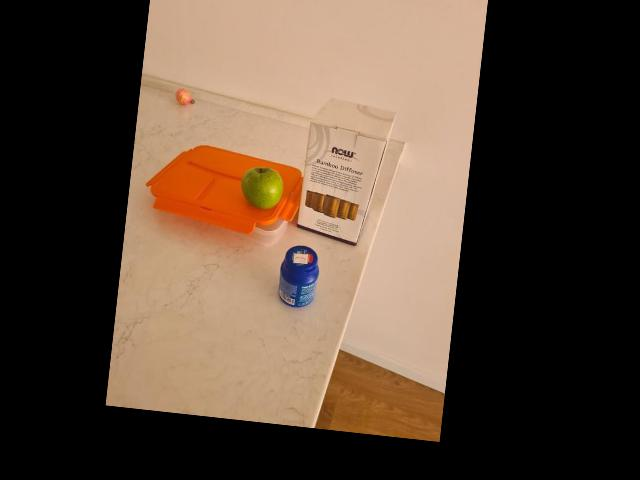apple: (240, 163, 289, 211)
